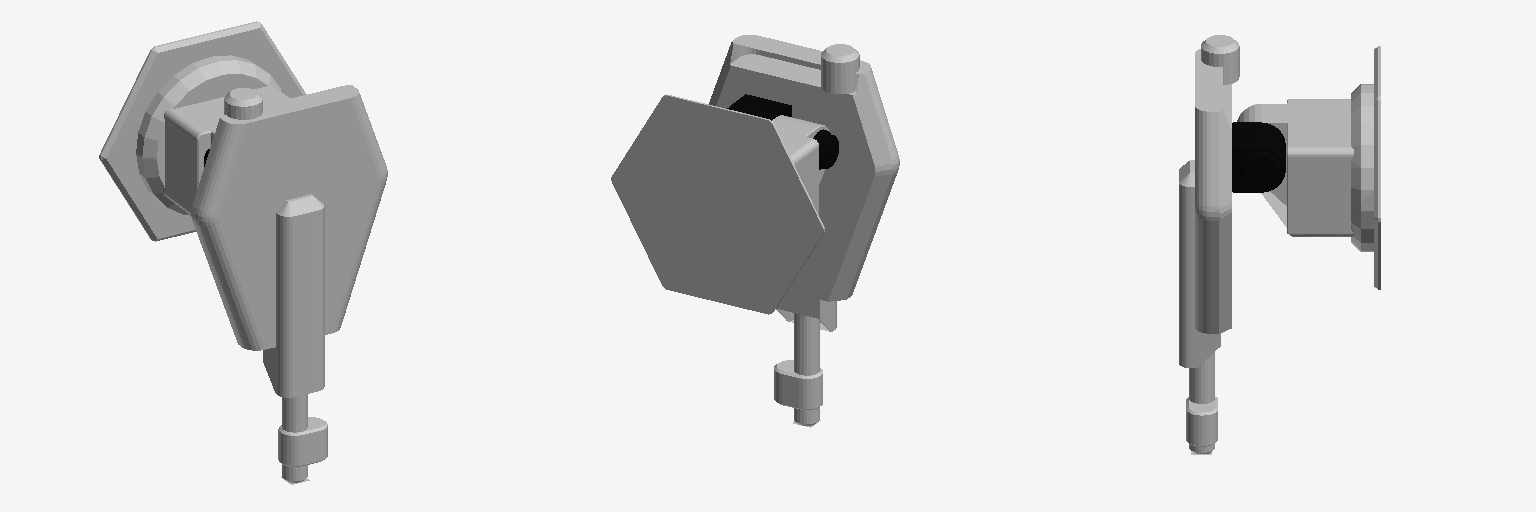
Rendered from turret_1.obj.
3 views of the same model, side by side, from view 1: azimuth 30°, elevation 25°; view 2: azimuth 150°, elevation 25°; view 3: azimuth 270°, elevation 25° (orthographic).
Visible parts, largest first — view 1: gun_body_gun_body, gun_yaw_gun_yaw, gun_plate_gun_plate, gun_barrel_gun_barrel, Examples_020_Examples_020, Examples_020.001_Examples_020.001; view 2: gun_plate_gun_plate, gun_body_gun_body, gun_barrel_gun_barrel, gun_yaw_gun_yaw; view 3: gun_body_gun_body, gun_yaw_gun_yaw, gun_barrel_gun_barrel, gun_plate_gun_plate.
Part boxes in pixels (left/top/right/bottom): gun_body_gun_body: left=191, top=85, right=387, bottom=397; gun_yaw_gun_yaw: left=136, top=55, right=290, bottom=215; gun_plate_gun_plate: left=99, top=21, right=306, bottom=241; gun_barrel_gun_barrel: left=278, top=394, right=327, bottom=482; Examples_020_Examples_020: left=233, top=187, right=271, bottom=266; Examples_020.001_Examples_020.001: left=326, top=164, right=363, bottom=243; gun_plate_gun_plate: left=611, top=94, right=824, bottom=314; gun_body_gun_body: left=709, top=35, right=899, bottom=331; gun_barrel_gun_barrel: left=774, top=313, right=822, bottom=425; gun_yaw_gun_yaw: left=772, top=115, right=838, bottom=214; gun_body_gun_body: left=1179, top=35, right=1285, bottom=367; gun_yaw_gun_yaw: left=1237, top=84, right=1373, bottom=251; gun_barrel_gun_barrel: left=1186, top=352, right=1217, bottom=453; gun_plate_gun_plate: left=1374, top=46, right=1380, bottom=289.
Size of the model in its own units: 0.482 by 0.8441 by 0.398.